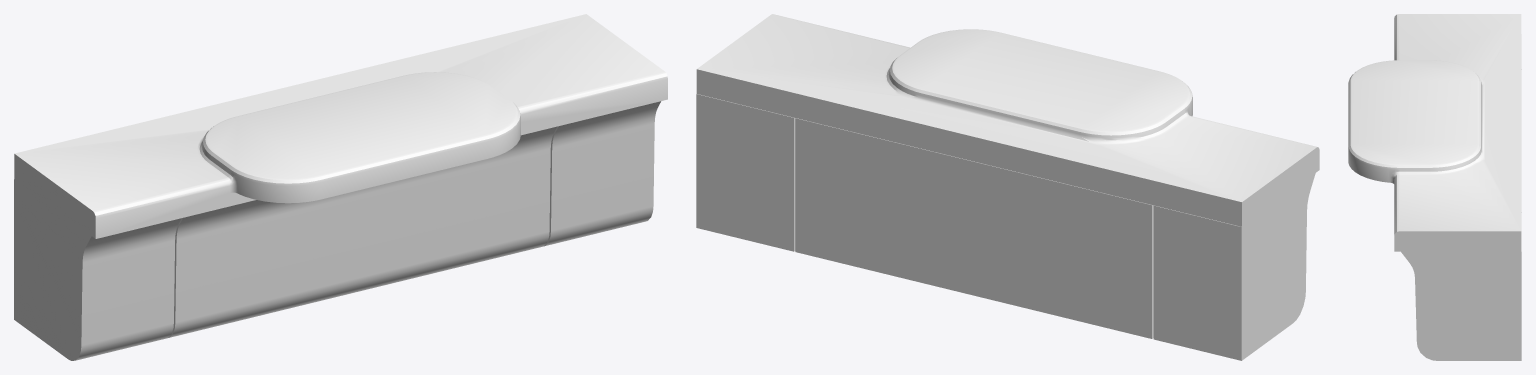
The model's file is SM_BathStand_1.fbx.
The picture shows the model from 3 angles, left to right: view 1: azimuth 30°, elevation 25°; view 2: azimuth 150°, elevation 25°; view 3: azimuth 270°, elevation 25°; orthographic projection. The views are drawn at different scales.
Visible parts, largest first — view 1: SM_BathStand_1; view 2: SM_BathStand_1; view 3: SM_BathStand_1.
Part boxes in pixels (x1=…): SM_BathStand_1: x1=14, y1=14, x2=667, y2=360; SM_BathStand_1: x1=696, y1=14, x2=1319, y2=360; SM_BathStand_1: x1=1348, y1=14, x2=1521, y2=360.
Bounding box in the file's own units: 0.81 × 0.2384 × 0.2731.
Materials: 1 (1 with a texture image).
